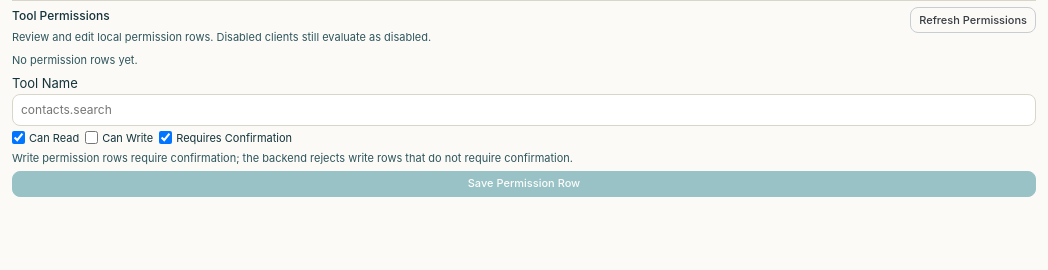
Scenario: ExternalClientPermissions component › upserts a permission row with read, write, and confirmation controls
Expected: the text "No permission rows yet." is shown, [12,52,138,66]
Type "deals.create_draft" into the field labelled "Tool Name" at (524, 110), box [12,94,1036,126]
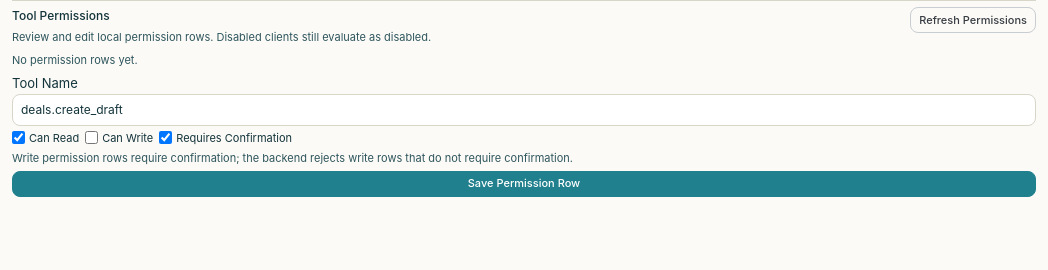
Click the checkbox labelled "Can Write" at (92, 138), box [85,131,98,144]
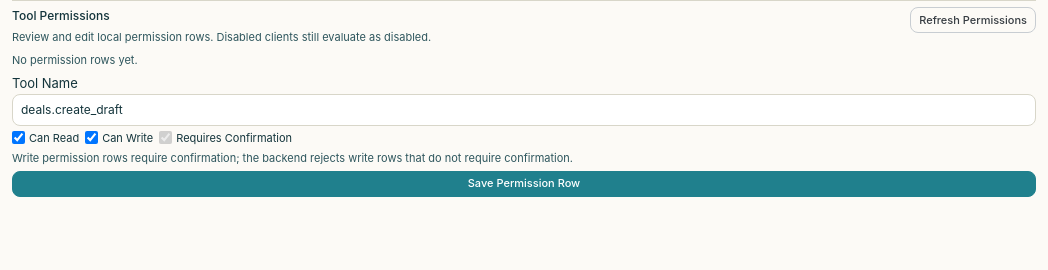
Expected: the checkbox labelled "Requires Confirmation" is checked, [159,131,172,144]
Expected: the checkbox labelled "Requires Confirmation" is disabled, [159,131,172,144]
Click the button "Save Permission Row" at (524, 184), box [12,170,1036,196]
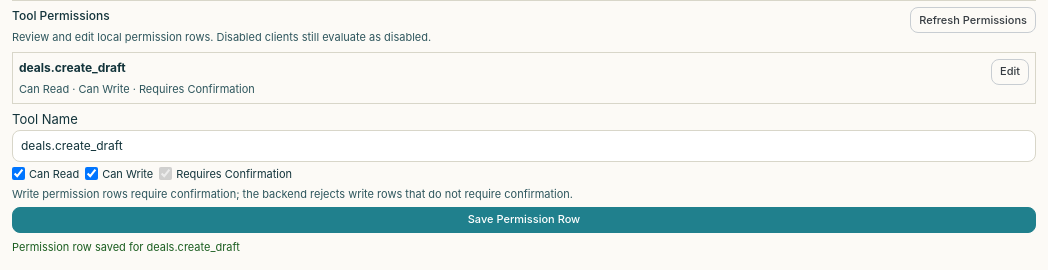
Expected: the text "Permission row saved for deals.create_draft" is shown, [12,240,240,254]
